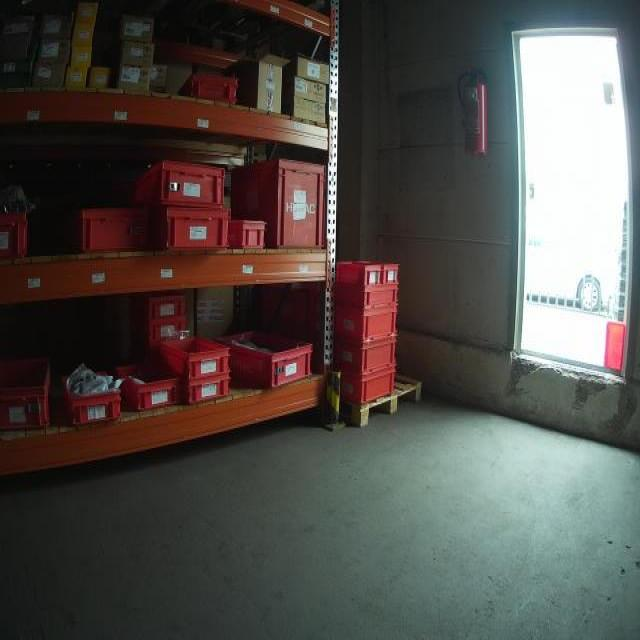pallet: (337, 373, 422, 429)
small_load_carrier: (226, 157, 329, 255), (213, 330, 312, 392), (126, 151, 231, 205), (1, 347, 57, 434), (146, 204, 234, 253), (74, 200, 151, 251), (160, 328, 234, 380), (63, 367, 126, 425), (116, 359, 179, 413), (336, 332, 399, 376), (336, 368, 401, 404), (185, 72, 240, 112), (331, 309, 402, 339), (2, 204, 34, 268), (332, 281, 404, 309), (182, 371, 236, 408), (333, 261, 384, 291), (227, 221, 268, 251), (384, 263, 404, 286)
